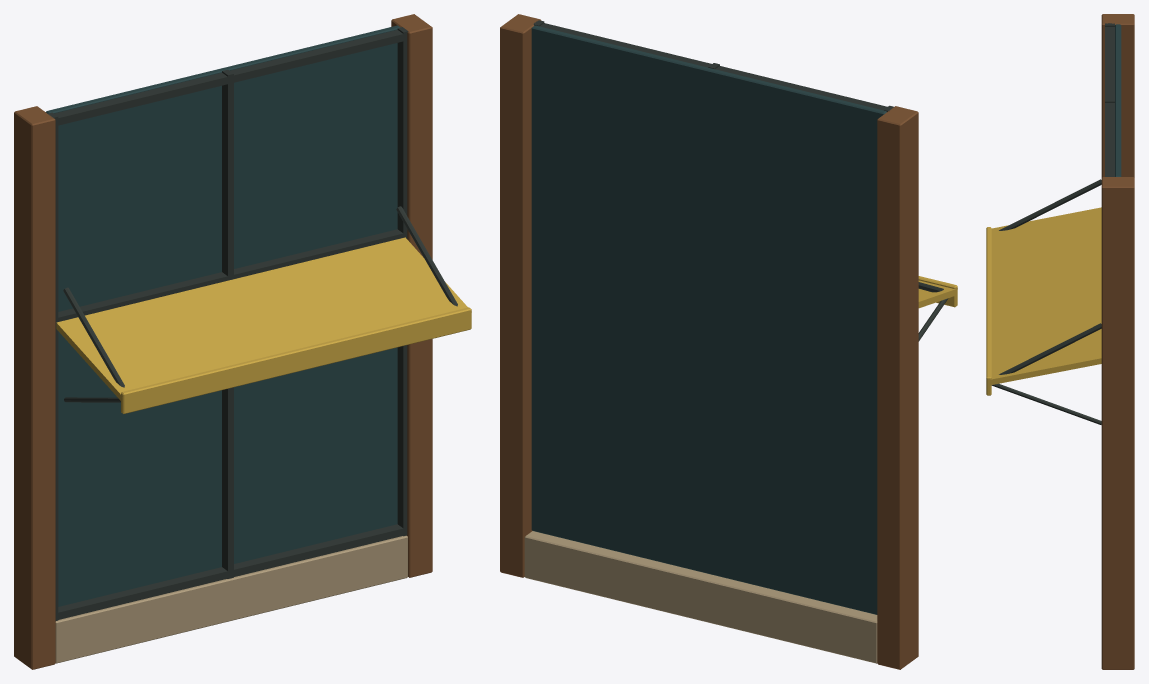
The model's file is hall_window_wall.glb.
The picture shows the model from 3 angles, left to right: view 1: azimuth 30°, elevation 25°; view 2: azimuth 150°, elevation 25°; view 3: azimuth 270°, elevation 25°; orthographic projection. The views are drawn at different scales.
Parts seen in each view (by area): view 1: wall; view 2: wall; view 3: wall.
Part boxes in pixels (box(x1,y1,x2,y2)): wall: box(14, 14, 471, 669); wall: box(500, 14, 957, 669); wall: box(986, 14, 1134, 669).
Bounding box in the file's own units: 4 × 5.2 × 1.44.
